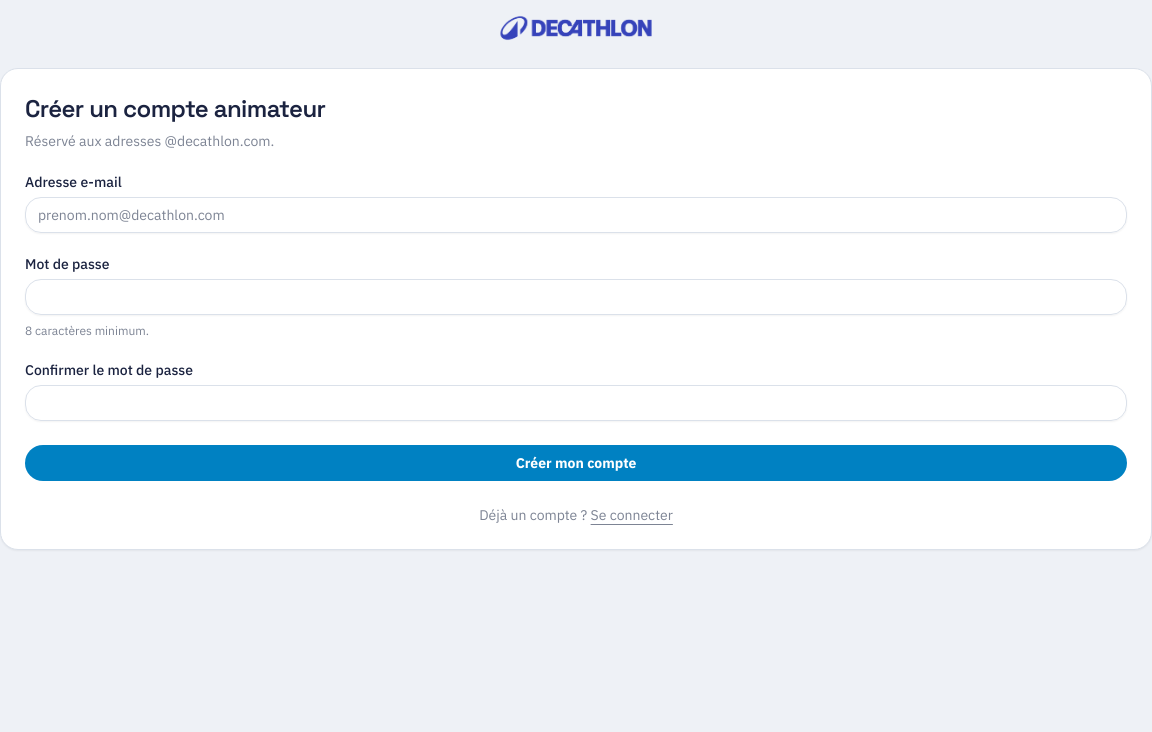
SignUpForm › refuse deux mots de passe différents
Type "a.b@decathlon.com" into the field labelled "Adresse e-mail". click: (576, 215)
box: top-left (25, 197), bottom-right (1127, 233)
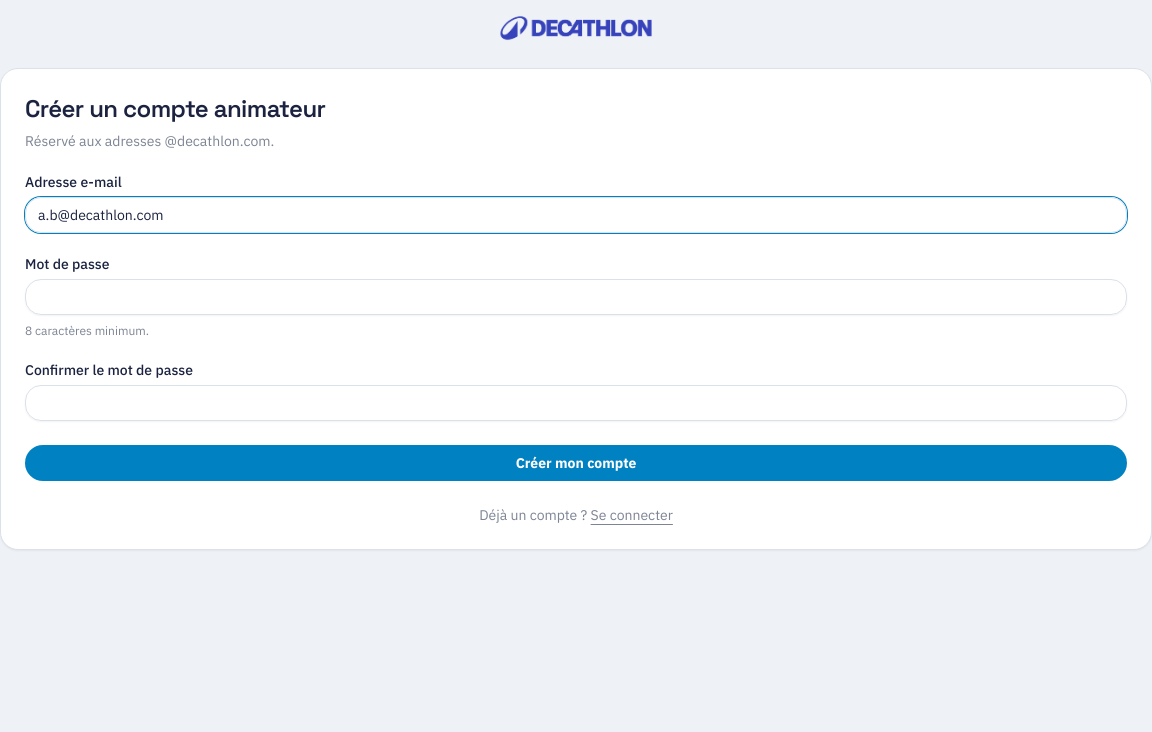
Type "motdepasse123" into the password field labelled "Mot de passe". click: (576, 297)
box: top-left (25, 279), bottom-right (1127, 315)
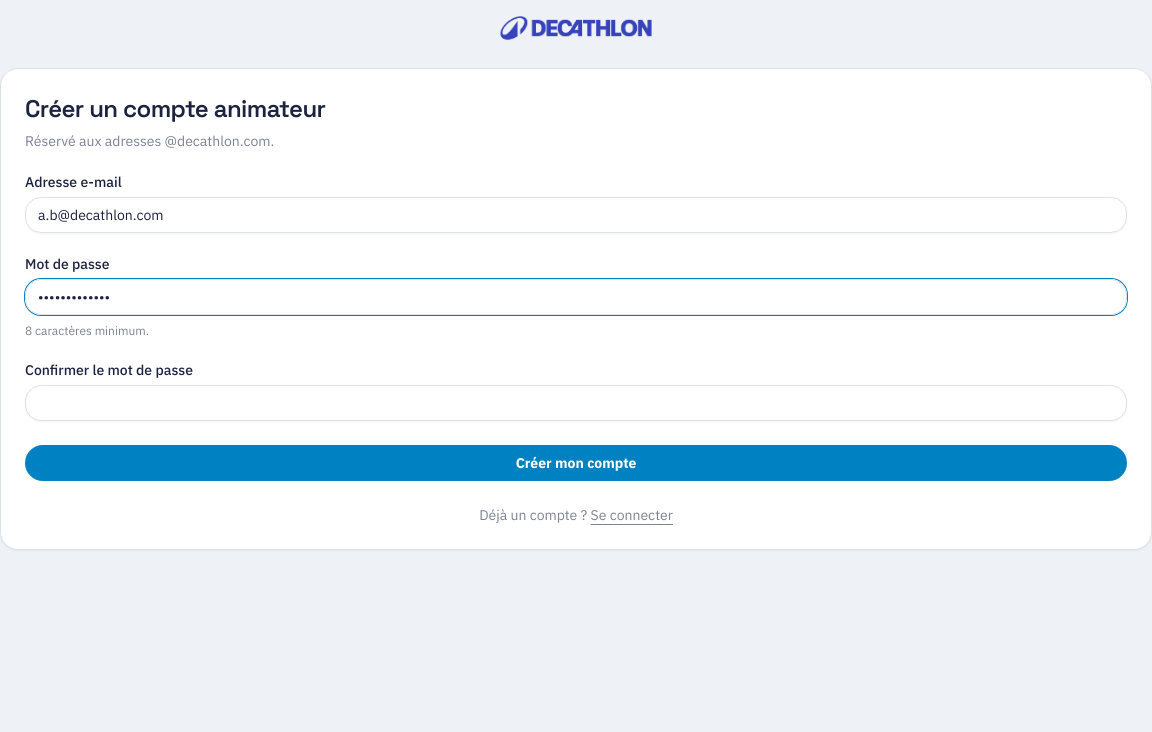
Type "autrechose123" into the password field labelled "Confirmer le mot de passe". click: (576, 403)
box: top-left (25, 385), bottom-right (1127, 421)
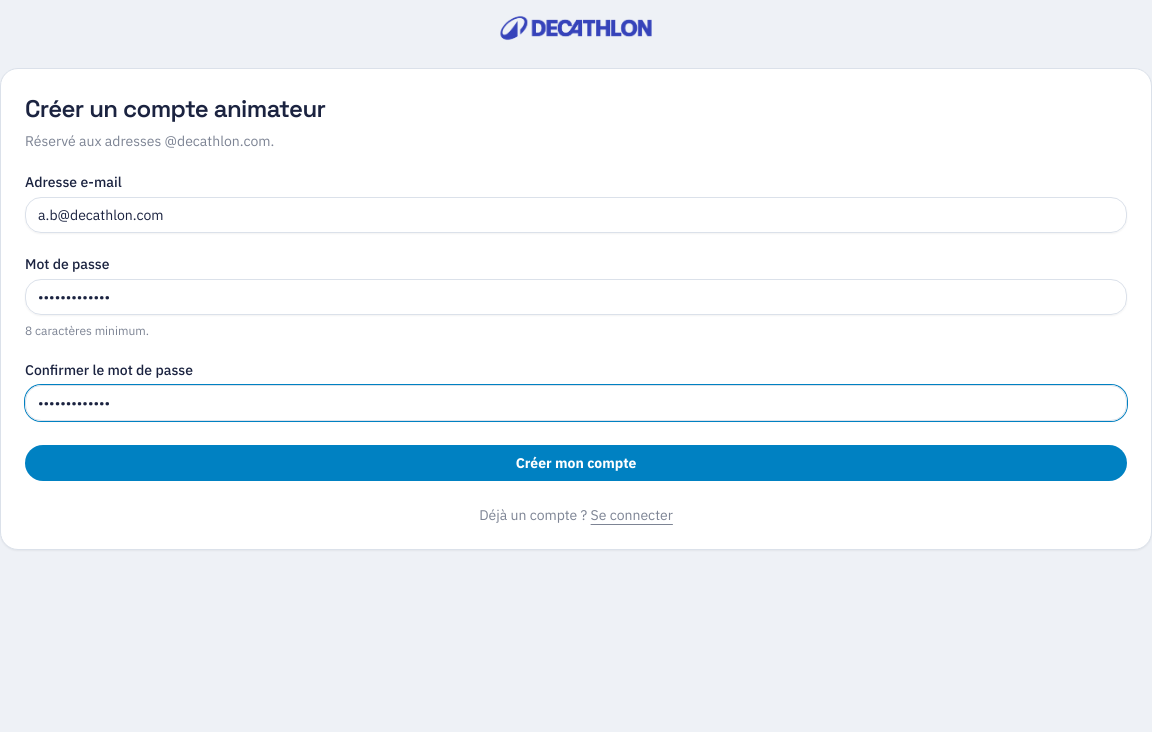
Click the button "Créer mon compte". click: (576, 463)
box: top-left (25, 445), bottom-right (1127, 481)
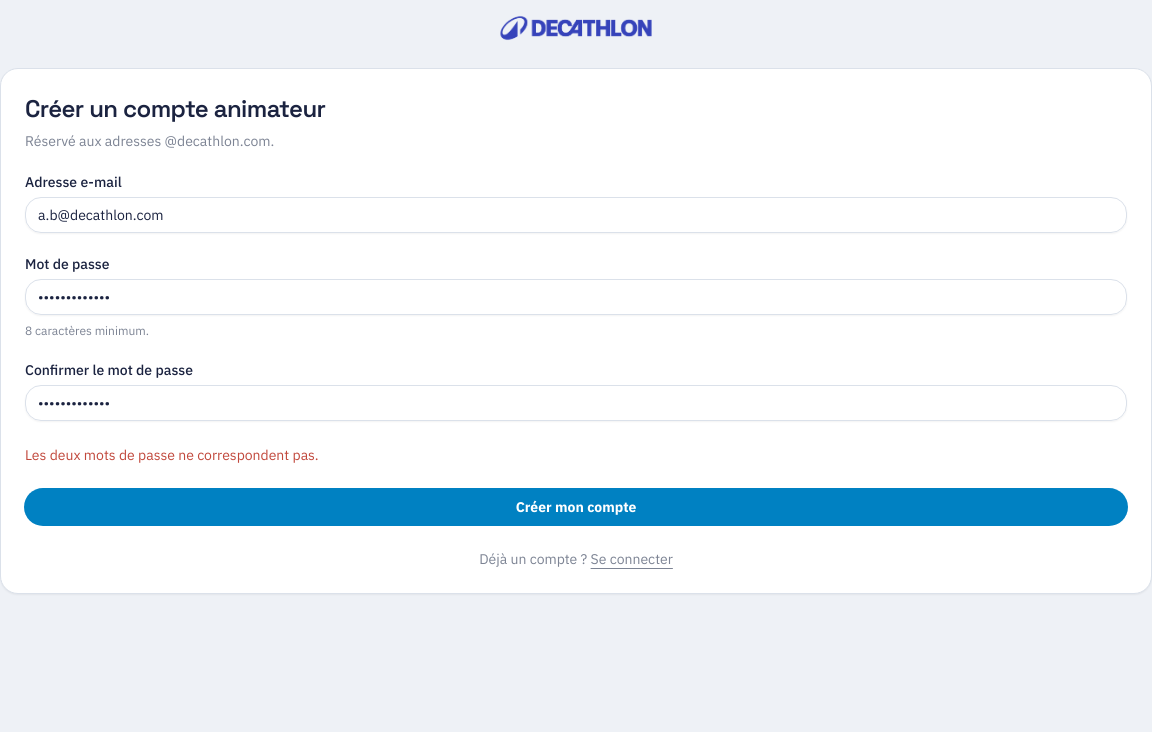
expect the text "Les deux mots de passe ne correspondent pas." is shown: met, box top-left (25, 446), bottom-right (319, 464)
